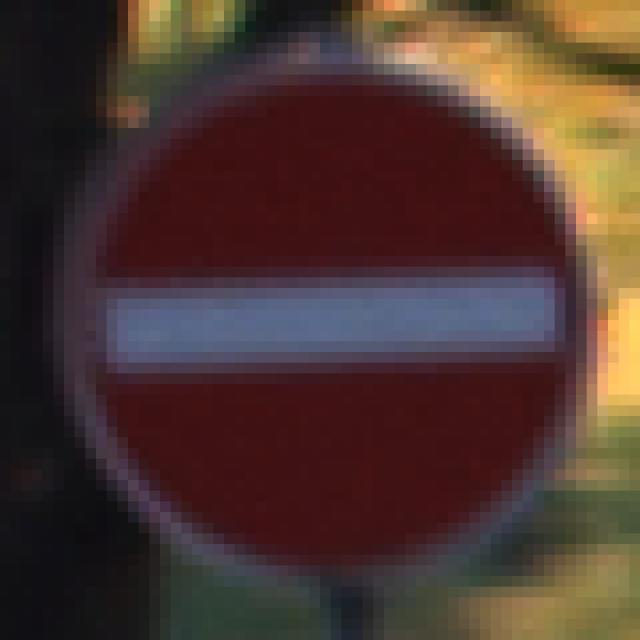No Entry: (65, 54, 588, 588)
